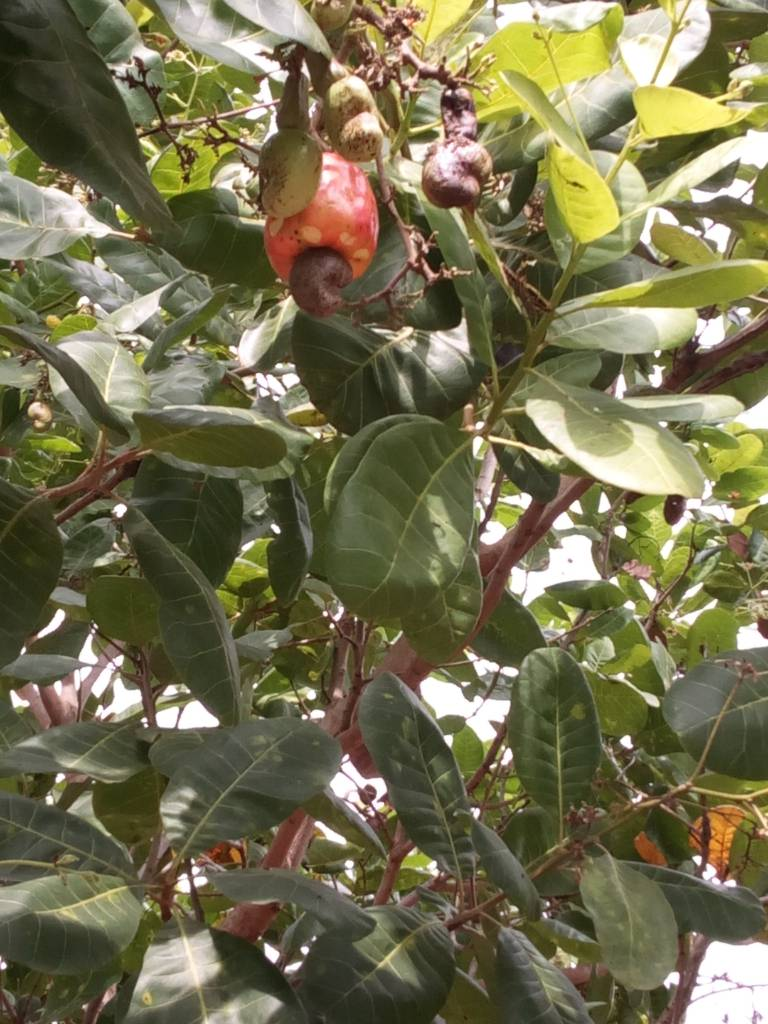Alternariose: (155, 694, 347, 874), (358, 674, 471, 888)
